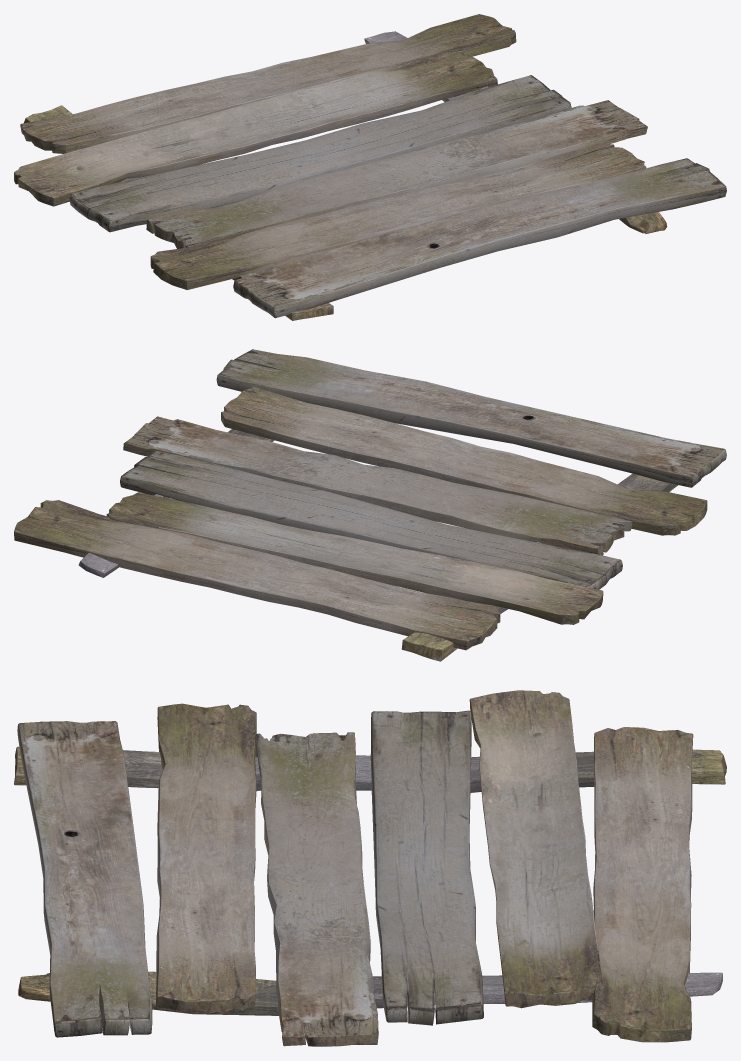
File: sm_WoodPlank_01_01_bridge.fbx
3 renders of one model, top to bottom at view 1: azimuth 30°, elevation 25°; view 2: azimuth 150°, elevation 25°; view 3: azimuth 270°, elevation 25°, orthographic. The views are drawn at different scales.
Visible parts, largest first — view 1: sm_WoodPlank_01_01_bridge_LOD0; view 2: sm_WoodPlank_01_01_bridge_LOD0; view 3: sm_WoodPlank_01_01_bridge_LOD0.
Part boxes in pixels (bbox=[...]): sm_WoodPlank_01_01_bridge_LOD0: bbox=[14, 14, 726, 320]; sm_WoodPlank_01_01_bridge_LOD0: bbox=[14, 349, 726, 661]; sm_WoodPlank_01_01_bridge_LOD0: bbox=[14, 690, 726, 1046].
Size of the model in its own units: 169 by 150 by 9.45.
